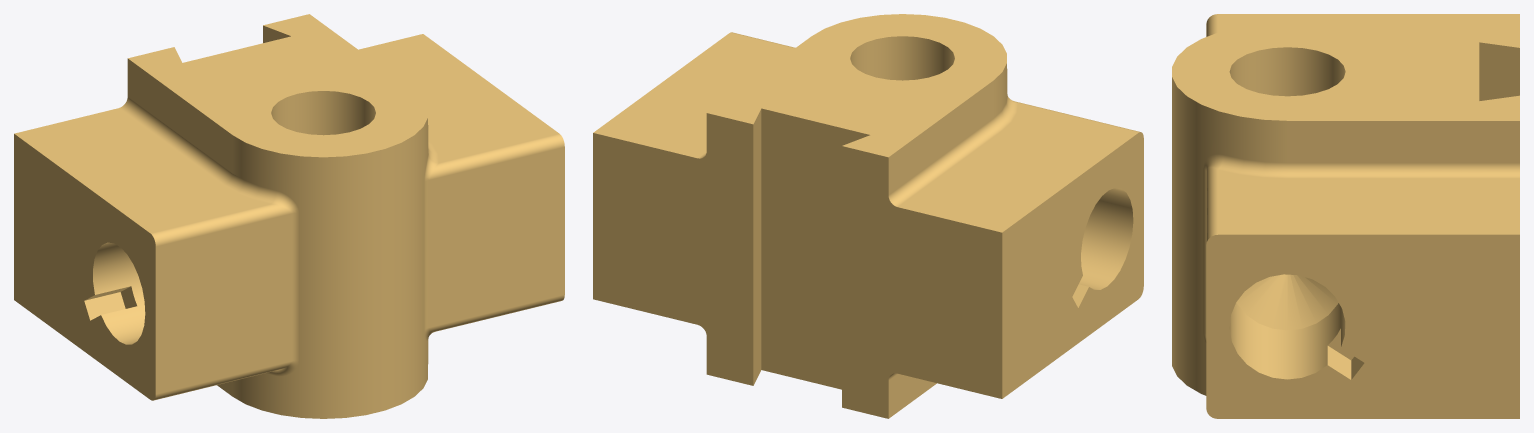
3 renders of one model, left to right at view 1: azimuth 30°, elevation 25°; view 2: azimuth 150°, elevation 25°; view 3: azimuth 270°, elevation 25°, orthographic. The views are drawn at different scales.
Parts seen in each view (by area): view 1: Body1; view 2: Body1; view 3: Body1.
Boxes of the visible parts, x1,y1,x2,y2 form: Body1: (14,14,564,418); Body1: (593,14,1143,418); Body1: (1172,14,1519,418).
Bounding box in the file's own units: 9 × 5.5 × 5.99.
